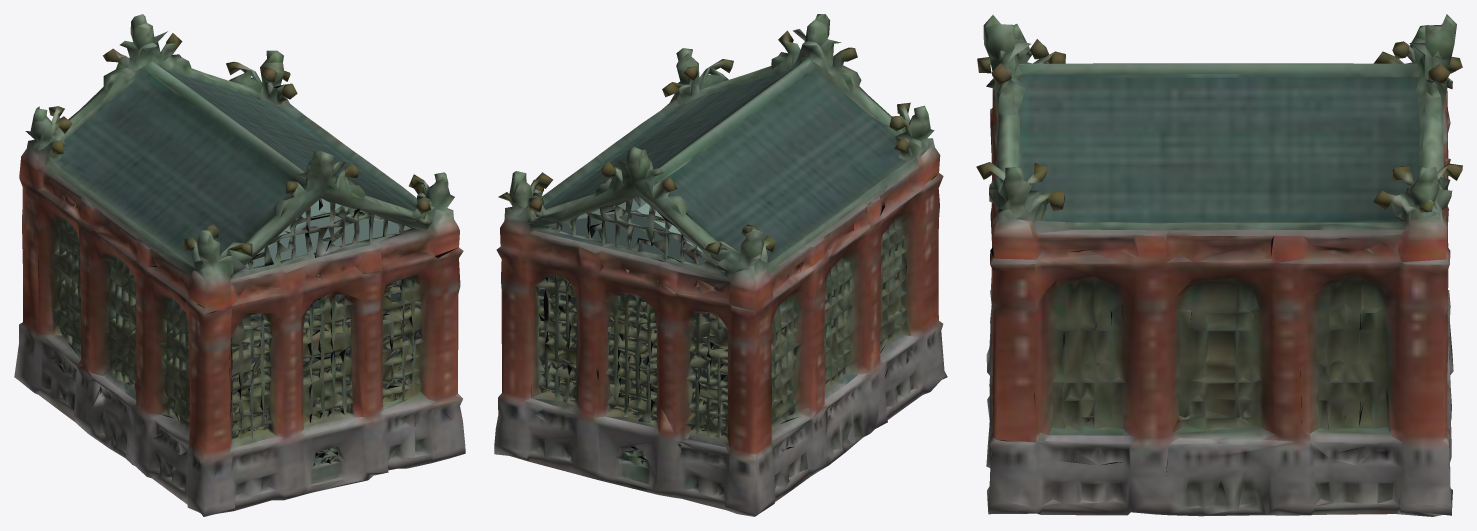
The model's file is harold_washington_library.glb.
The picture shows the model from 3 angles, left to right: view 1: azimuth 30°, elevation 25°; view 2: azimuth 150°, elevation 25°; view 3: azimuth 270°, elevation 25°; orthographic projection. The views are drawn at different scales.
Visible parts, largest first — view 1: harold_washington_library, hwl_roof_core, hwl_glass_core; view 2: harold_washington_library, hwl_roof_core, hwl_glass_core; view 3: harold_washington_library.
Part boxes in pixels (box(x1,y1,x2,y2)): harold_washington_library: box(14, 14, 465, 516); hwl_roof_core: box(242, 198, 410, 269); hwl_glass_core: box(99, 281, 420, 462); harold_washington_library: box(494, 14, 947, 516); hwl_roof_core: box(548, 199, 717, 266); hwl_glass_core: box(539, 230, 852, 463); harold_washington_library: box(976, 14, 1462, 516).
Bounding box in the file's own units: 58.07 × 70.52 × 74.36.
3 materials, 1 textured.
